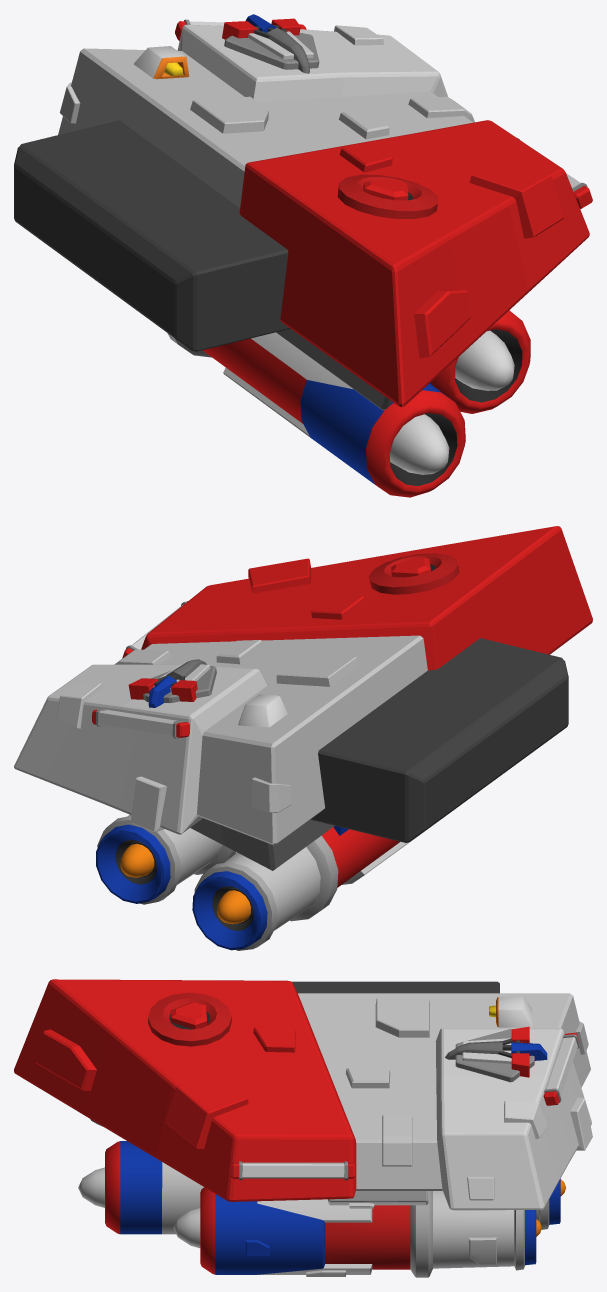
File: Wing09.fbx
3 views of the same model, one above another, from view 1: azimuth 30°, elevation 25°; view 2: azimuth 150°, elevation 25°; view 3: azimuth 270°, elevation 25° (orthographic). The views are drawn at different scales.
Parts seen in each view (by area): view 1: Wing09; view 2: Wing09; view 3: Wing09.
Part boxes in pixels (<box>): Wing09: <box>14,14,592,497</box>; Wing09: <box>14,526,592,950</box>; Wing09: <box>14,979,592,1277</box>.
Bounding box in the file's own units: 256 × 365 × 161.
